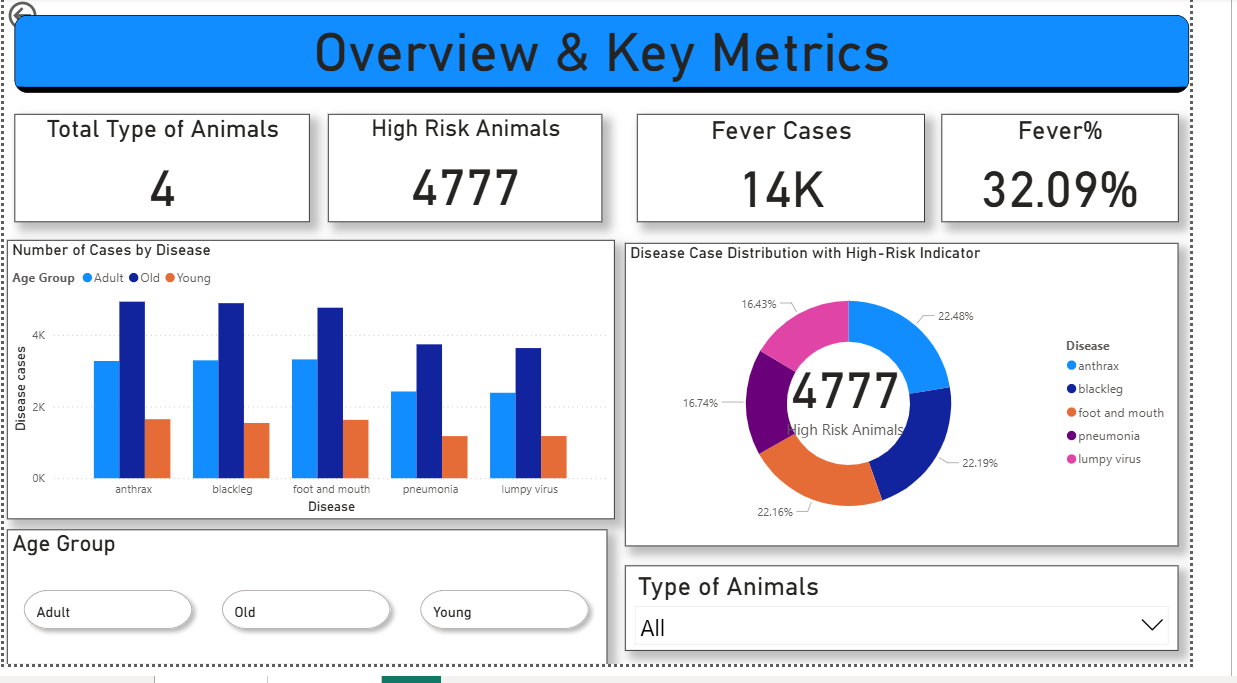

This screenshot's page, from the dashboard's own definition file:
{"tool":"powerbi","page":{"name":"Page 1","canvas":[1280,720],"ordinal":0},"visuals":[{"type":"actionButton","box":[0,0,100,40],"z":0},{"type":"clusteredColumnChart","title":"Number of Cases by Disease","fields":{"Category":["animal_disease_dataset.Disease"],"Y":["animal_disease_dataset.Disease cases"],"Series":["animal_disease_dataset.Age Group"]},"box":[3.2,262.3,655.8,301.2],"z":1000},{"type":"donutChart","title":"Disease Case Distribution with High-Risk Indicator","fields":{"Category":["animal_disease_dataset.Disease"],"Y":["animal_disease_dataset.Disease cases"]},"box":[670.4,265.6,597.5,327.1],"z":2000},{"type":"card","fields":{"Values":["animal_disease_dataset.High Risk Animals"]},"box":[838.8,375.7,137.6,105.2],"z":3000},{"type":"card","title":"Total Type of  Animals","fields":{"Values":["Count(animal_disease_dataset.Animal)"]},"box":[11.3,126.3,319,116.6],"z":4000},{"type":"card","title":"Fever Cases","fields":{"Values":["animal_disease_dataset.Fever cases"]},"box":[683.3,126.3,310.9,116.6],"z":5000},{"type":"card","title":"High Risk Animals","fields":{"Values":["animal_disease_dataset.High Risk Animals"]},"box":[349.8,126.3,296.3,116.6],"z":6000},{"type":"card","title":"Fever%","fields":{"Values":["animal_disease_dataset.FEVER%"]},"box":[1296.5,329.2,311.5,157],"z":7000},{"type":"slicer","fields":{"Values":["animal_disease_dataset.Animal"]},"box":[670.4,613.7,597.5,92.3],"z":8000},{"type":"textbox","box":[1382,613,226,150],"z":9000},{"type":"card","title":"Fever%","fields":{"Values":["animal_disease_dataset.FEVER%"]},"box":[1012,126.3,255.8,116.6],"z":10000},{"type":"textbox","title":"Overview & Key Metrics","box":[11.3,19.4,1267.9,84.2],"z":11000},{"type":"advancedSlicerVisual","fields":{"Values":["animal_disease_dataset.Age Group"]},"box":[3.2,574.8,647.7,145.7],"z":12000}]}

Visuals, with their boxes in screenshot pixels (x1, y1, x2, y2), scaled from the page's 1280x720 canvas onto the 1237x683 screenshot:
actionButton: (left=0, top=0, right=97, bottom=38)
"Number of Cases by Disease" clusteredColumnChart: (left=3, top=249, right=637, bottom=535)
"Disease Case Distribution with High-Risk Indicator" donutChart: (left=648, top=252, right=1225, bottom=562)
card - animal_disease_dataset.High Risk Animals: (left=811, top=356, right=944, bottom=456)
"Total Type of  Animals" card: (left=11, top=120, right=319, bottom=230)
"Fever Cases" card: (left=660, top=120, right=961, bottom=230)
"High Risk Animals" card: (left=338, top=120, right=624, bottom=230)
slicer - animal_disease_dataset.Animal: (left=648, top=582, right=1225, bottom=670)
"Fever%" card: (left=978, top=120, right=1225, bottom=230)
"Overview & Key Metrics" textbox: (left=11, top=18, right=1236, bottom=98)
advancedSlicerVisual - animal_disease_dataset.Age Group: (left=3, top=545, right=629, bottom=682)
